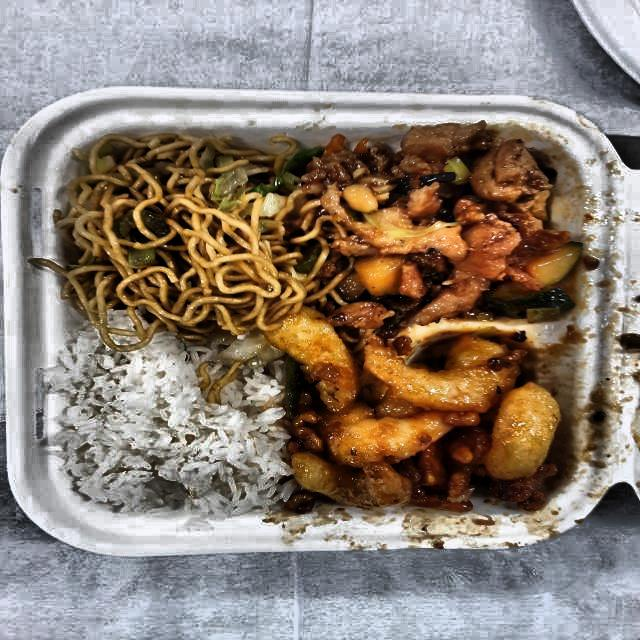Food: (278, 316, 571, 526), (310, 121, 585, 332), (51, 129, 310, 335), (51, 335, 284, 514)
